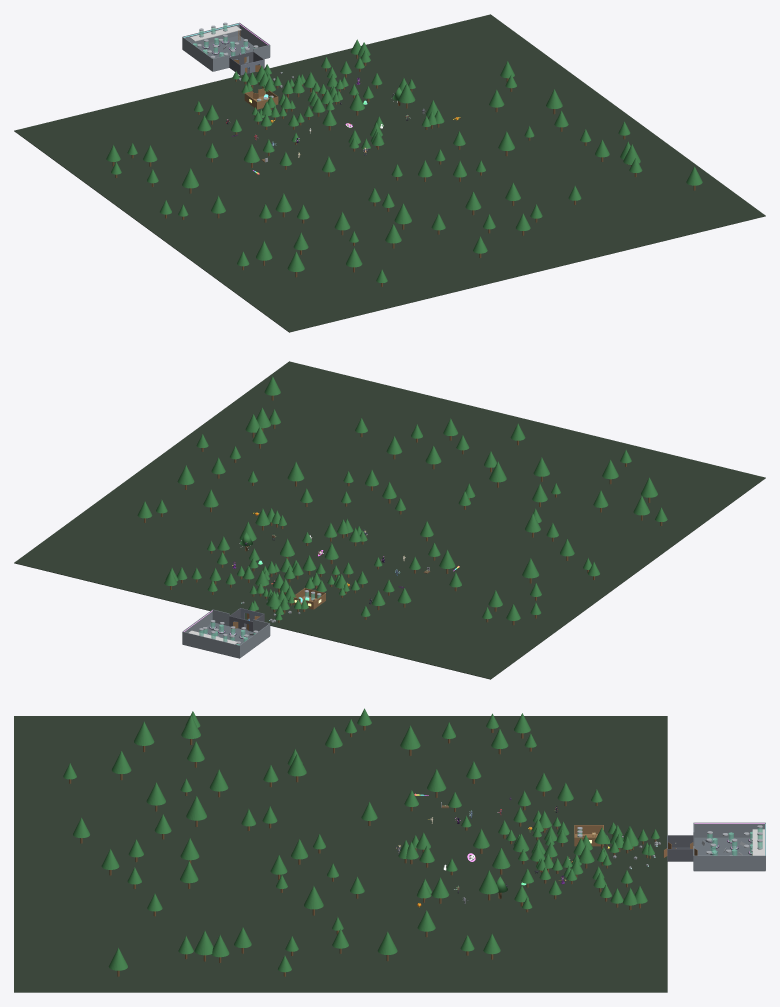
3 views of the same model, one above another, from view 1: azimuth 30°, elevation 25°; view 2: azimuth 150°, elevation 25°; view 3: azimuth 270°, elevation 25° (orthographic). The views are drawn at different scales.
Visible parts, largest first — view 1: Outside_Ground, Lab_Floor; view 2: Outside_Ground, Lab_Wall_Back, Lab_Floor; view 3: Outside_Ground, Lab_Wall_Right, Lab_Floor, Lab_Wall_Left.
Part boxes in pixels (x1,y1,x2,y2): Outside_Ground: (14, 14, 765, 332); Lab_Floor: (183, 35, 269, 71); Outside_Ground: (14, 361, 765, 679); Lab_Wall_Back: (182, 631, 239, 658); Lab_Floor: (182, 623, 269, 658); Outside_Ground: (14, 716, 667, 992); Lab_Wall_Right: (693, 855, 765, 870); Lab_Floor: (694, 837, 765, 871); Lab_Wall_Left: (694, 822, 765, 837).
Bounding box in the file's own units: 200 × 11.84 × 230.
